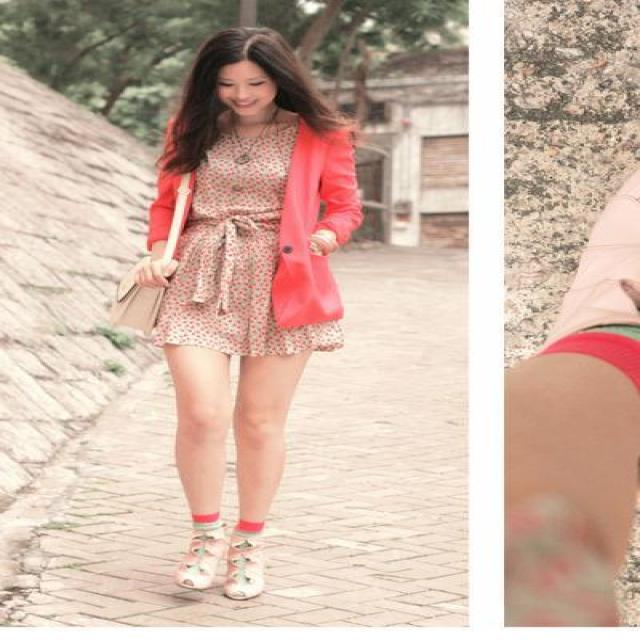bag: (114, 252, 174, 287)
dress: (158, 126, 341, 365)
jacket: (130, 128, 363, 326)
shoe: (178, 525, 272, 596)
